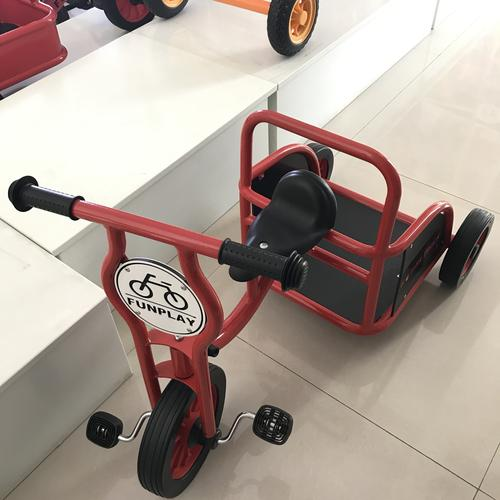empty: (32, 70, 490, 500)
